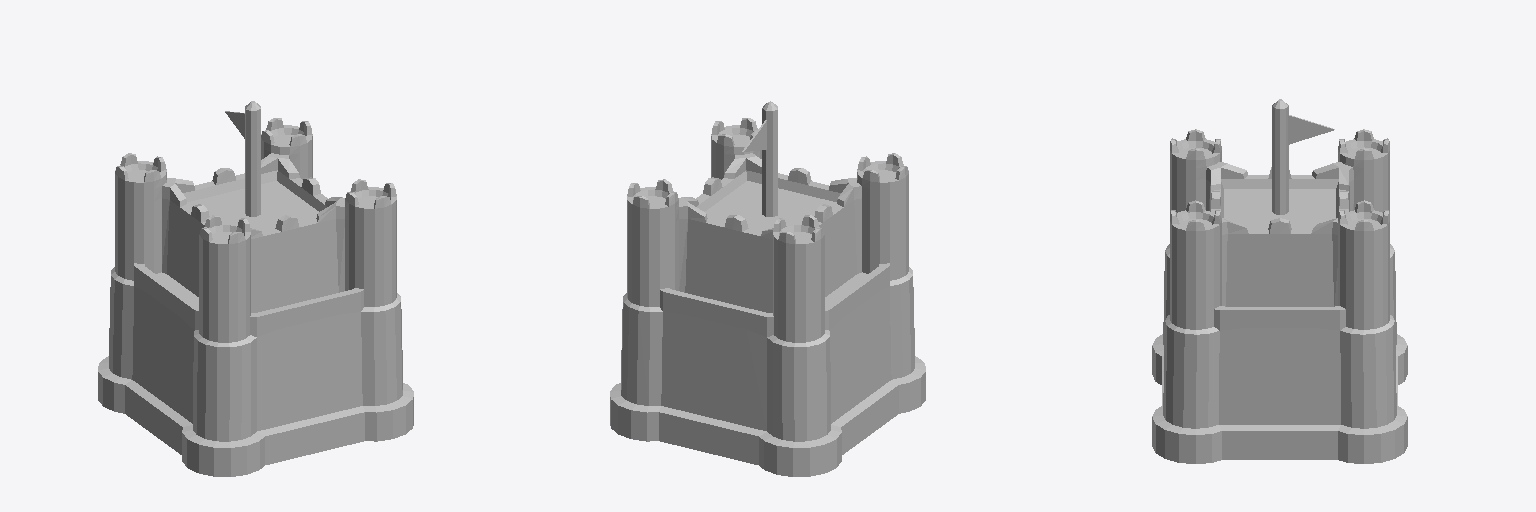
The model's file is SandCastle02LP.obj.
3 views of the same model, side by side, from view 1: azimuth 30°, elevation 25°; view 2: azimuth 150°, elevation 25°; view 3: azimuth 270°, elevation 25° (orthographic).
Parts seen in each view (by area): view 1: Castle, Stock; view 2: Castle, Stock; view 3: Castle, Stock, Flag.
Part boxes in pixels (x1,y1,x2,y2): Castle: (98, 118, 413, 476); Stock: (245, 101, 260, 216); Castle: (610, 118, 925, 476); Stock: (762, 101, 777, 216); Castle: (1152, 129, 1407, 463); Stock: (1272, 99, 1288, 214); Flag: (1288, 115, 1334, 144).
Bounding box in the file's own units: 0.6195 × 0.8256 × 0.6195.